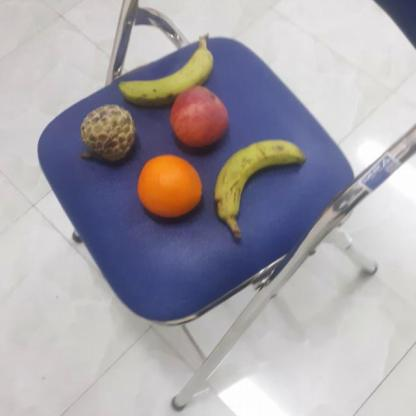annona: (80, 101, 138, 162)
apple: (167, 87, 232, 152)
banana: (210, 139, 306, 219), (111, 41, 217, 103)
orange: (135, 153, 206, 221)
